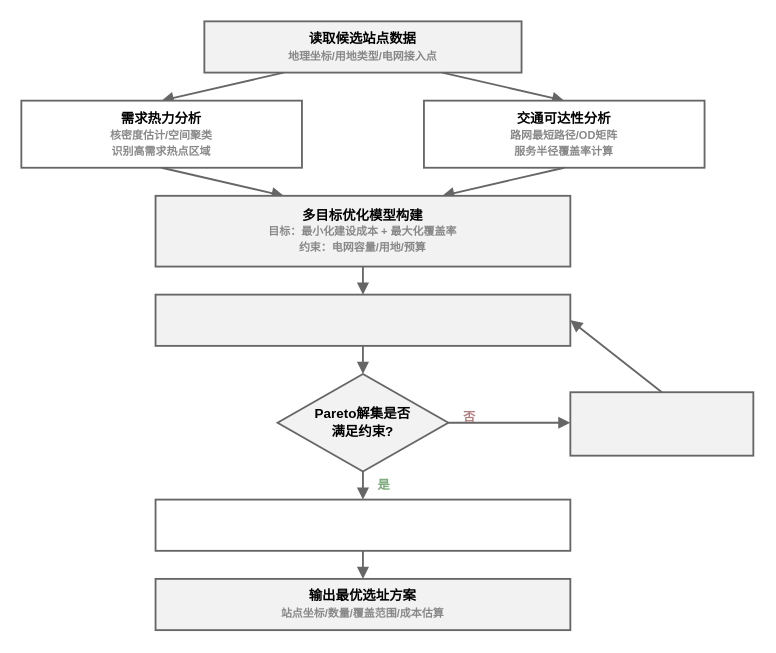
Some shapes in this 776 by 653 pixel diagram are drawn without their labels. Each missing label, with the centre of its shape:
"NSGA-II遗传算法求解 种群初始化/交叉变异/非支配排序" goes at point 362,319.
"TOPSIS综合评价排序 构建决策矩阵/熵权赋权/逼近理想解" goes at point 362,524.
"调整约束参数 放宽/收紧预算 调整服务半径" goes at point 661,423.
